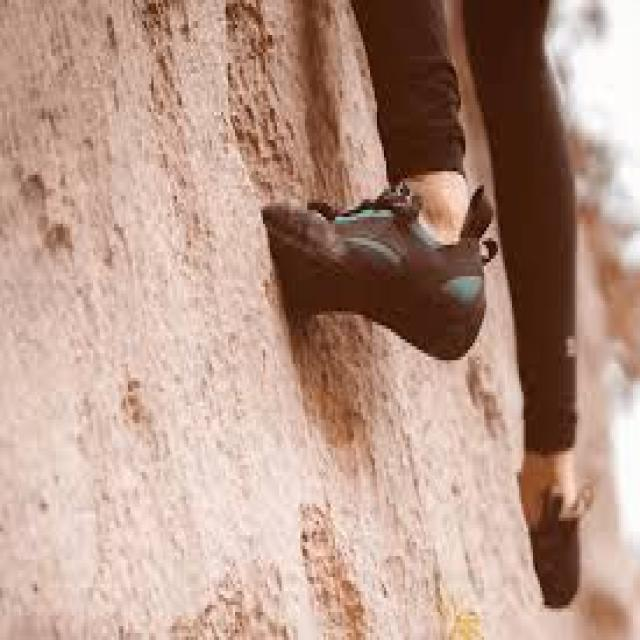climbing-shoes: (263, 191, 490, 361)
